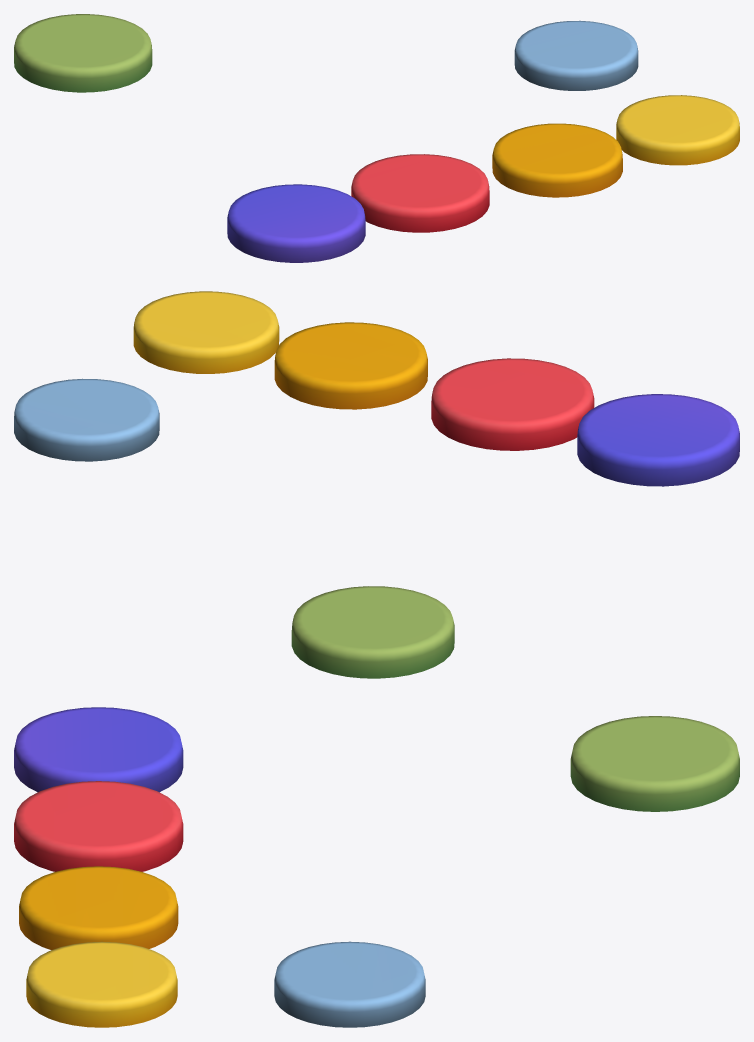
The model's file is StandItems.fbx.
3 renders of one model, top to bottom at view 1: azimuth 30°, elevation 25°; view 2: azimuth 150°, elevation 25°; view 3: azimuth 270°, elevation 25°, orthographic. The views are drawn at different scales.
Visible parts, largest first — view 1: Circle.015, Circle.014, Circle.013, Circle.012, Circle.021, Circle.011; view 2: Circle.014, Circle.015, Circle.013, Circle.012, Circle.011, Circle.021; view 3: Circle.014, Circle.013, Circle.015, Circle.012, Circle.011, Circle.021.
Part boxes in pixels (bbox=[...]): Circle.015: bbox=[227, 184, 365, 262]; Circle.014: bbox=[14, 14, 152, 92]; Circle.013: bbox=[351, 154, 489, 232]; Circle.012: bbox=[492, 123, 622, 197]; Circle.021: bbox=[514, 20, 638, 90]; Circle.011: bbox=[616, 95, 739, 165]; Circle.014: bbox=[291, 586, 454, 678]; Circle.015: bbox=[577, 394, 739, 486]; Circle.013: bbox=[431, 358, 594, 450]; Circle.012: bbox=[274, 322, 427, 409]; Circle.011: bbox=[133, 291, 279, 373]; Circle.021: bbox=[14, 378, 159, 461]; Circle.014: bbox=[570, 716, 739, 811]; Circle.013: bbox=[14, 781, 183, 871]; Circle.015: bbox=[14, 707, 183, 792]; Circle.012: bbox=[19, 866, 178, 949]; Circle.011: bbox=[26, 941, 177, 1027]; Circle.021: bbox=[274, 941, 425, 1027].
Bounding box in the file's own units: 750 × 31.77 × 777.
